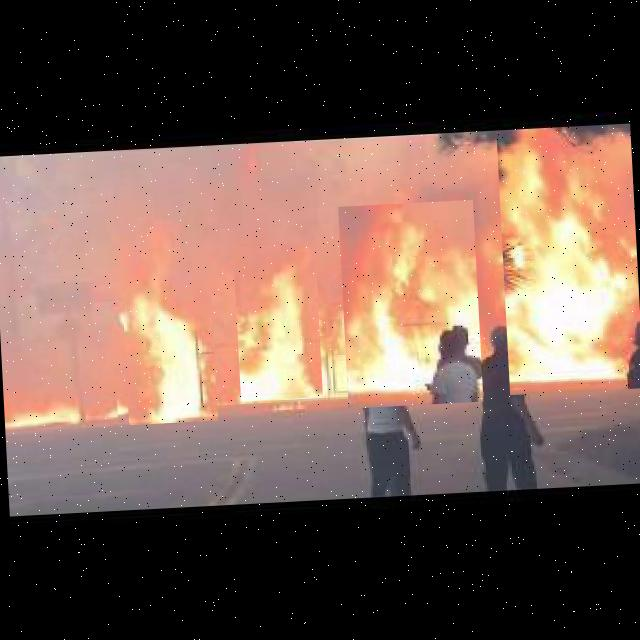fire: (496, 116, 640, 395), (338, 200, 484, 408), (120, 254, 218, 425), (233, 243, 323, 401), (3, 386, 118, 432)
